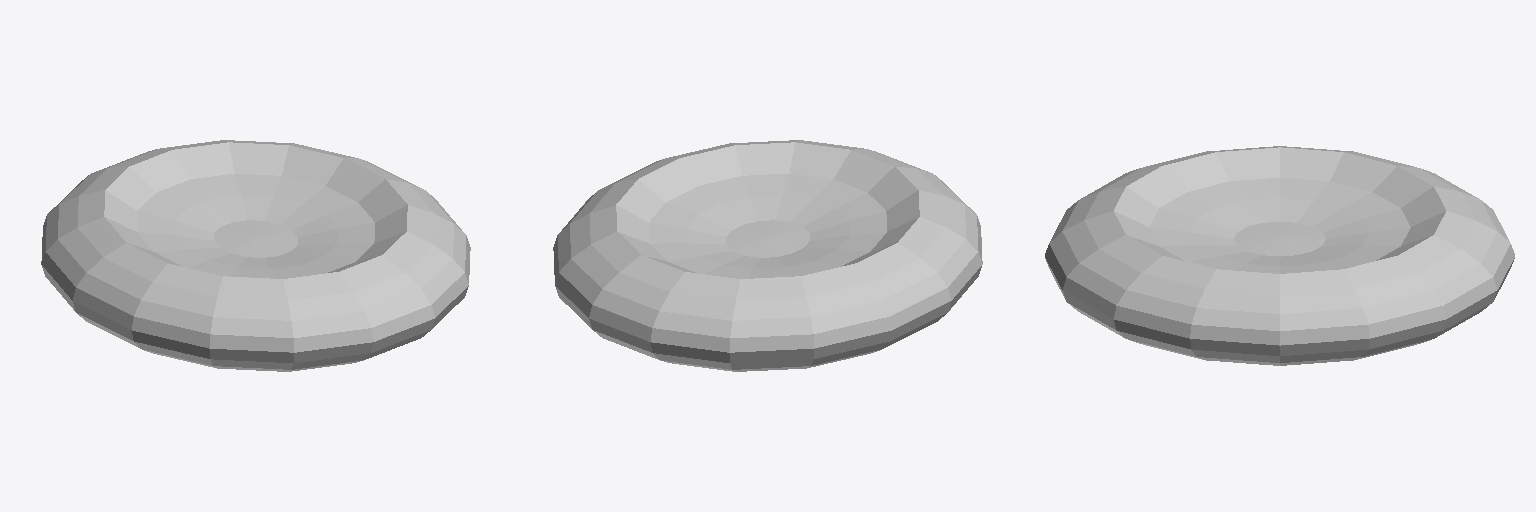
The model's file is Cell.obj.
The picture shows the model from 3 angles: view 1: azimuth 30°, elevation 25°; view 2: azimuth 150°, elevation 25°; view 3: azimuth 270°, elevation 25°; orthographic projection.
Parts seen in each view (by area): view 1: Sphere_Sphere.001; view 2: Sphere_Sphere.001; view 3: Sphere_Sphere.001.
Boxes of the visible parts, box(x1,y1,x2,y2) form: Sphere_Sphere.001: box(41, 140, 470, 371); Sphere_Sphere.001: box(553, 140, 982, 371); Sphere_Sphere.001: box(1045, 146, 1514, 365).
Bounding box in the file's own units: 1.8 × 0.4243 × 2.